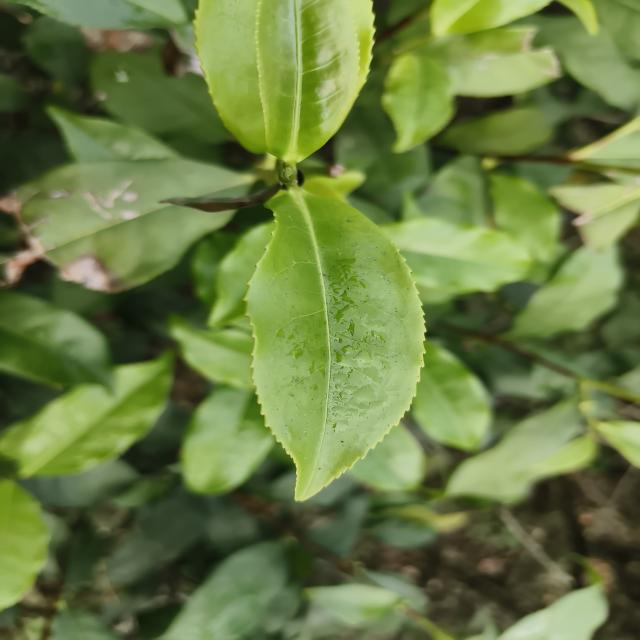Leaf: (245, 188, 425, 500), (16, 156, 253, 292), (194, 0, 375, 164), (0, 352, 173, 479), (260, 0, 359, 163), (90, 43, 232, 143), (334, 70, 431, 214), (447, 402, 579, 502), (381, 216, 531, 301), (531, 0, 640, 114), (161, 542, 287, 640), (0, 290, 111, 386), (180, 385, 275, 494), (510, 246, 622, 338), (412, 341, 492, 451), (47, 106, 179, 162), (382, 53, 454, 153), (0, 480, 49, 610), (169, 316, 253, 389), (498, 585, 608, 640), (20, 459, 140, 507), (349, 424, 426, 491), (23, 16, 88, 86), (305, 583, 403, 626)
